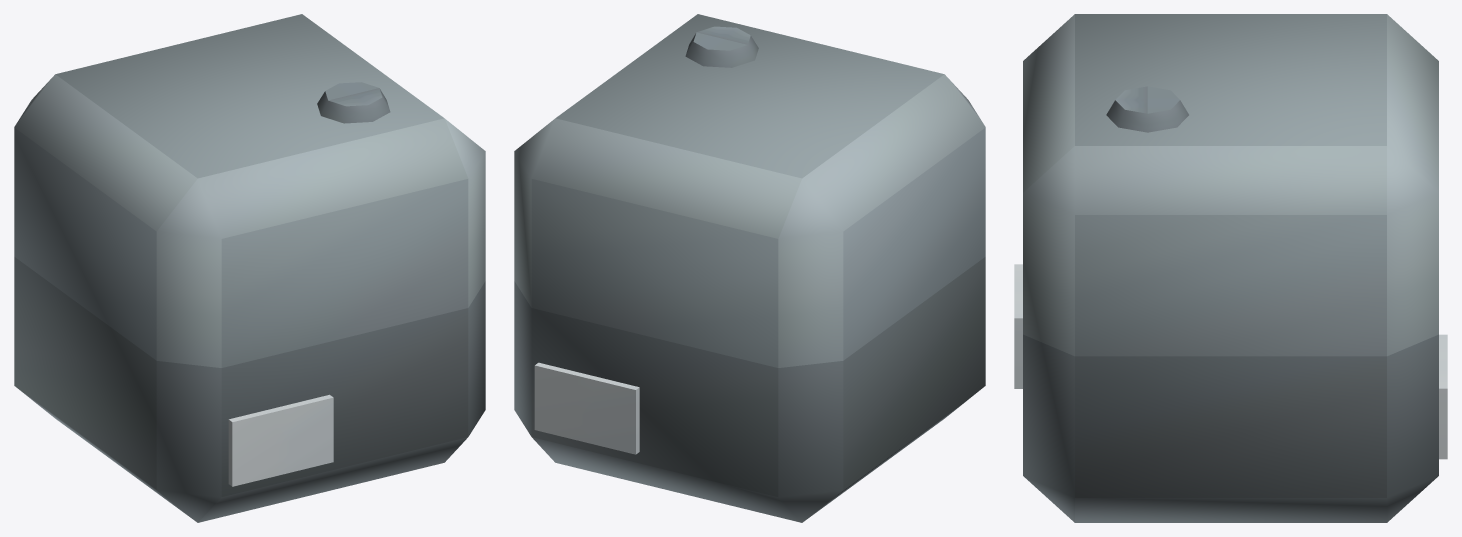
File: cargo_B.glb
The picture shows the model from 3 angles, left to right: view 1: azimuth 30°, elevation 25°; view 2: azimuth 150°, elevation 25°; view 3: azimuth 270°, elevation 25°; orthographic projection. The views are drawn at different scales.
Visible parts, largest first — view 1: cargo_B; view 2: cargo_B; view 3: cargo_B.
Boxes of the visible parts, x1,y1,x2,y2 form: cargo_B: (14,14,485,522); cargo_B: (514,14,985,522); cargo_B: (1014,14,1447,522).
Size of the model in its own units: 0.5 by 0.52 by 0.5205.
Materials: 1 (1 with a texture image).
